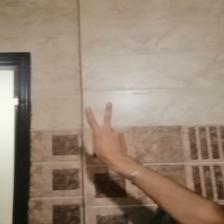two: (82, 98, 127, 168)
